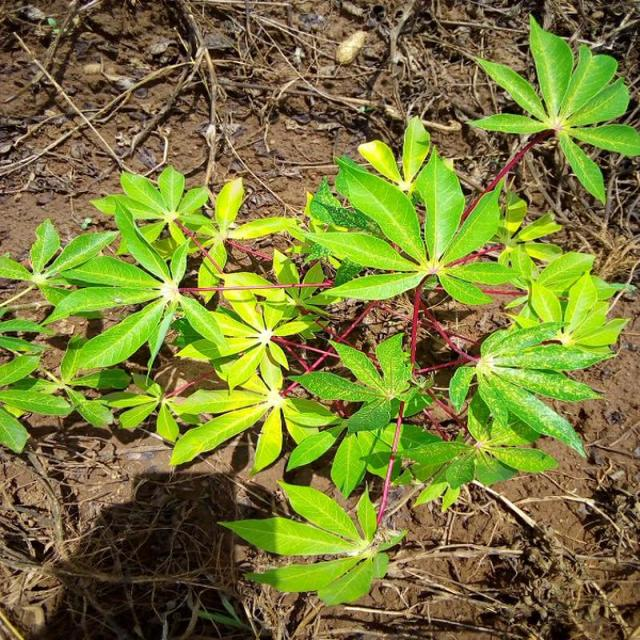cassava leaf: (1, 16, 636, 607), (464, 12, 639, 205)
